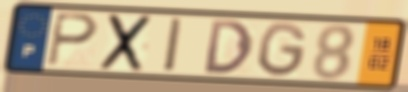8: (311, 22, 359, 83)
D: (203, 18, 256, 76)
G: (256, 20, 310, 80)
I: (162, 15, 185, 74)
P: (45, 11, 100, 69)
X: (96, 12, 155, 74)
